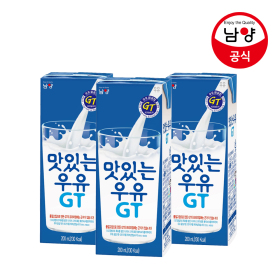milk: (39, 72, 237, 257)
